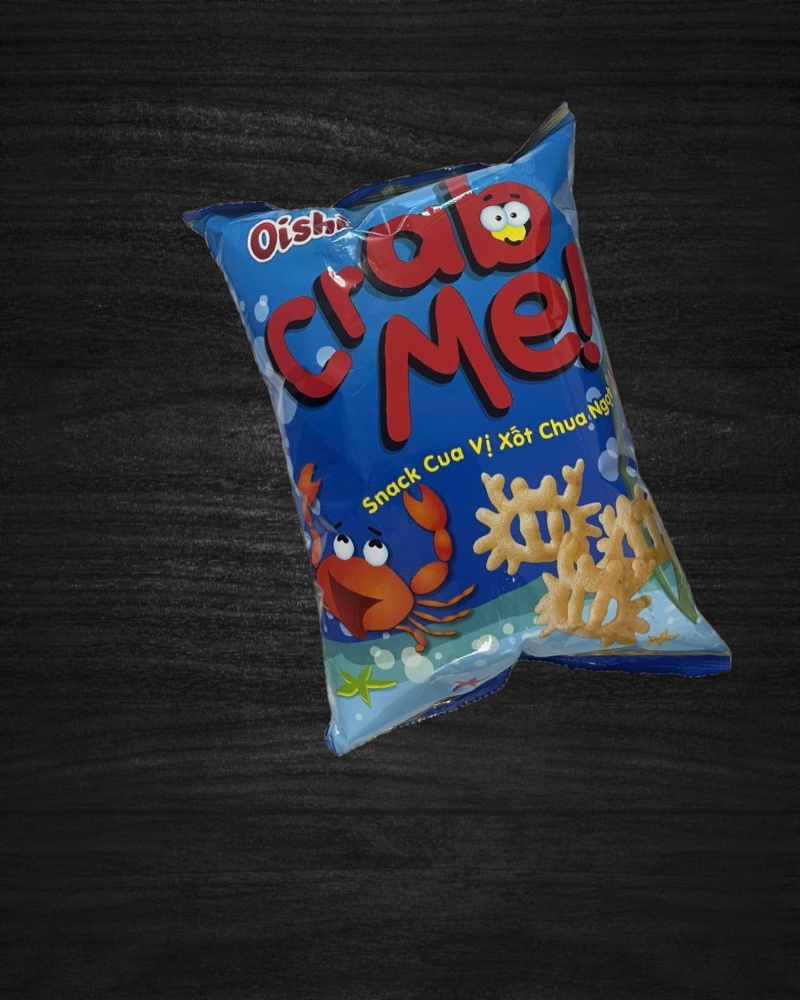Snack cua: (179, 97, 735, 771)
